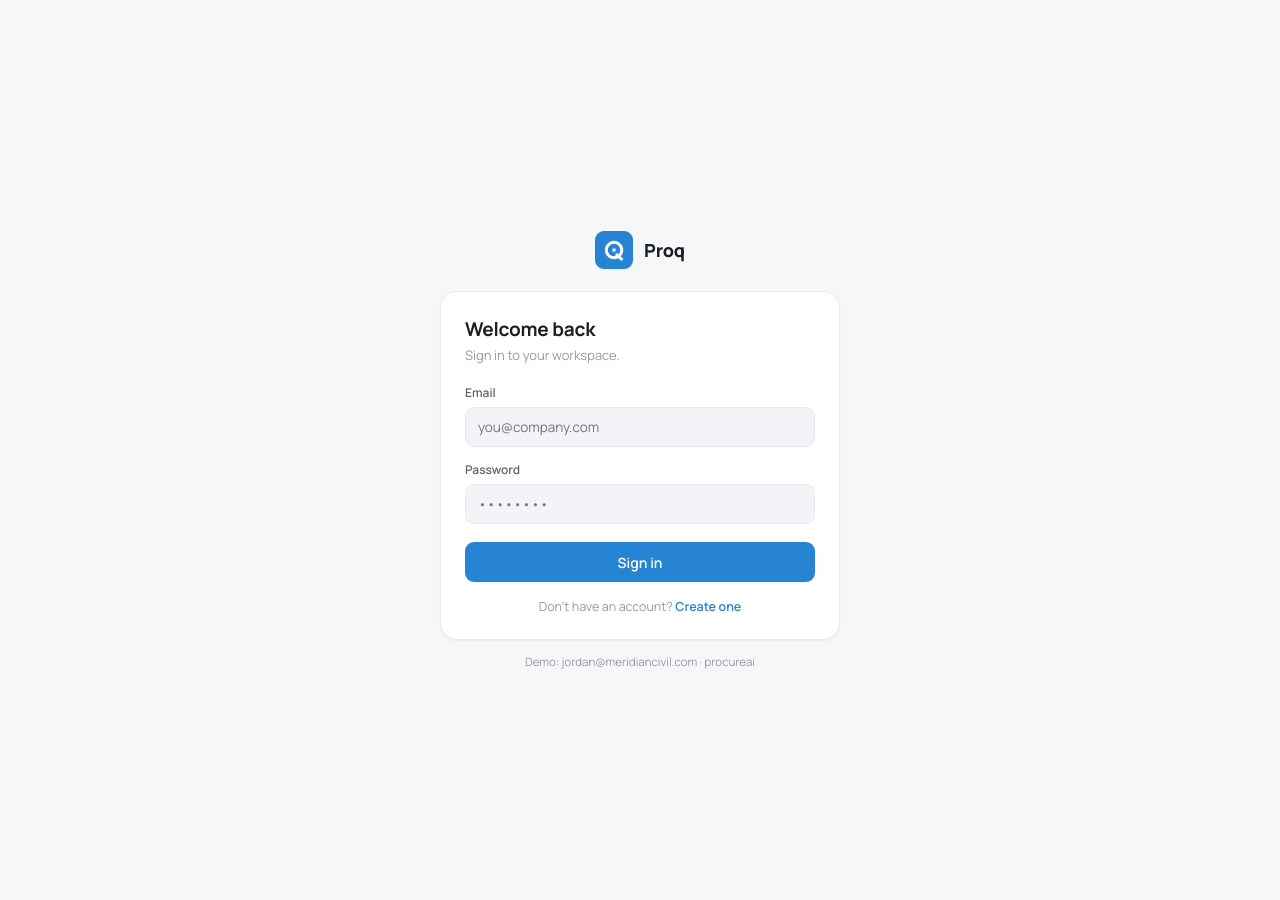
naming a custom BOM / trade never uses window.prompt › asks before replacing a plan whose BOM was already confirmed
Step 1. Type "pm@acmebuild.com" into the field with placeholder "you@company.com" → [640, 427], box [465,407,815,447]
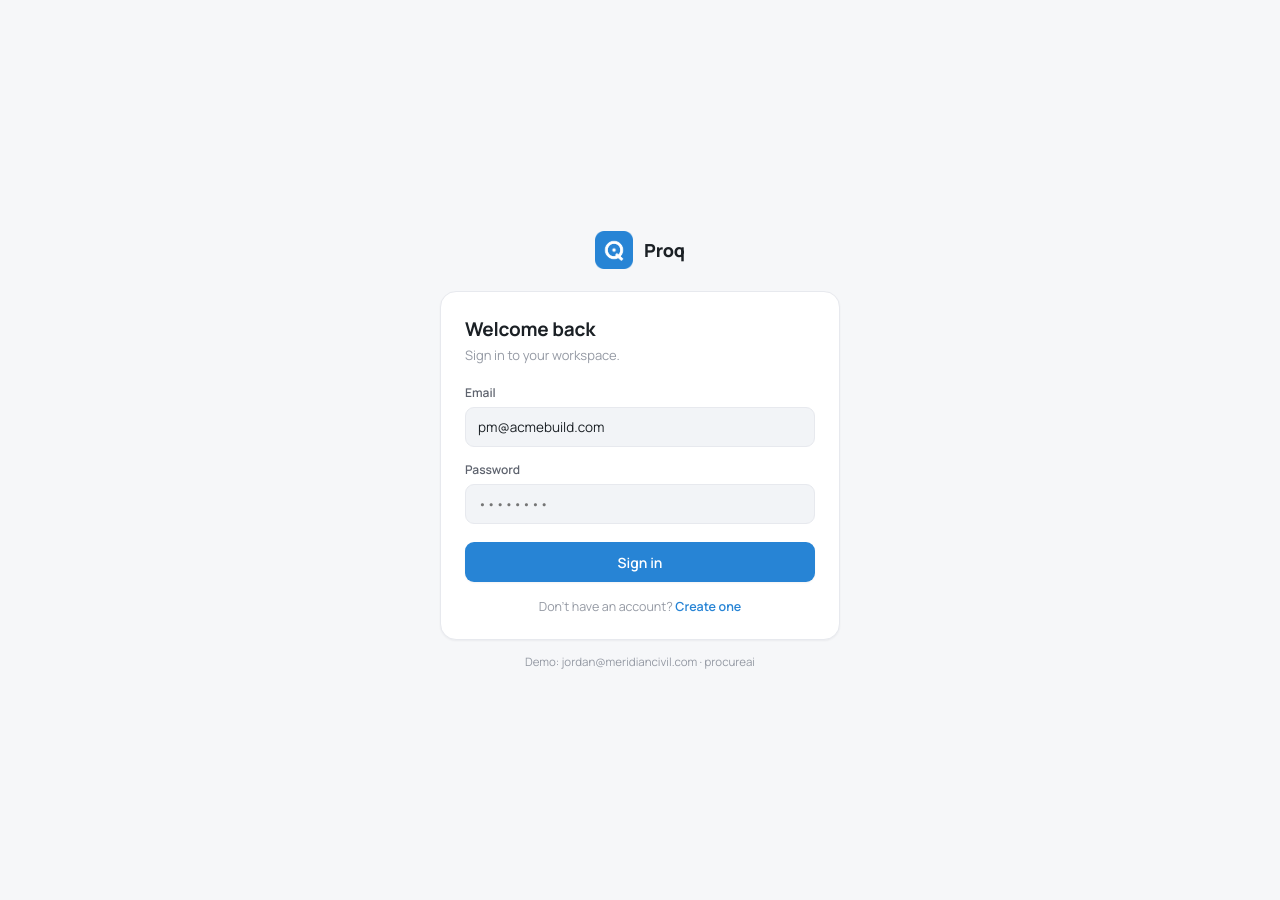
Step 2. Type "password123" into the password field with placeholder "••••••••" → [640, 504], box [465,484,815,524]
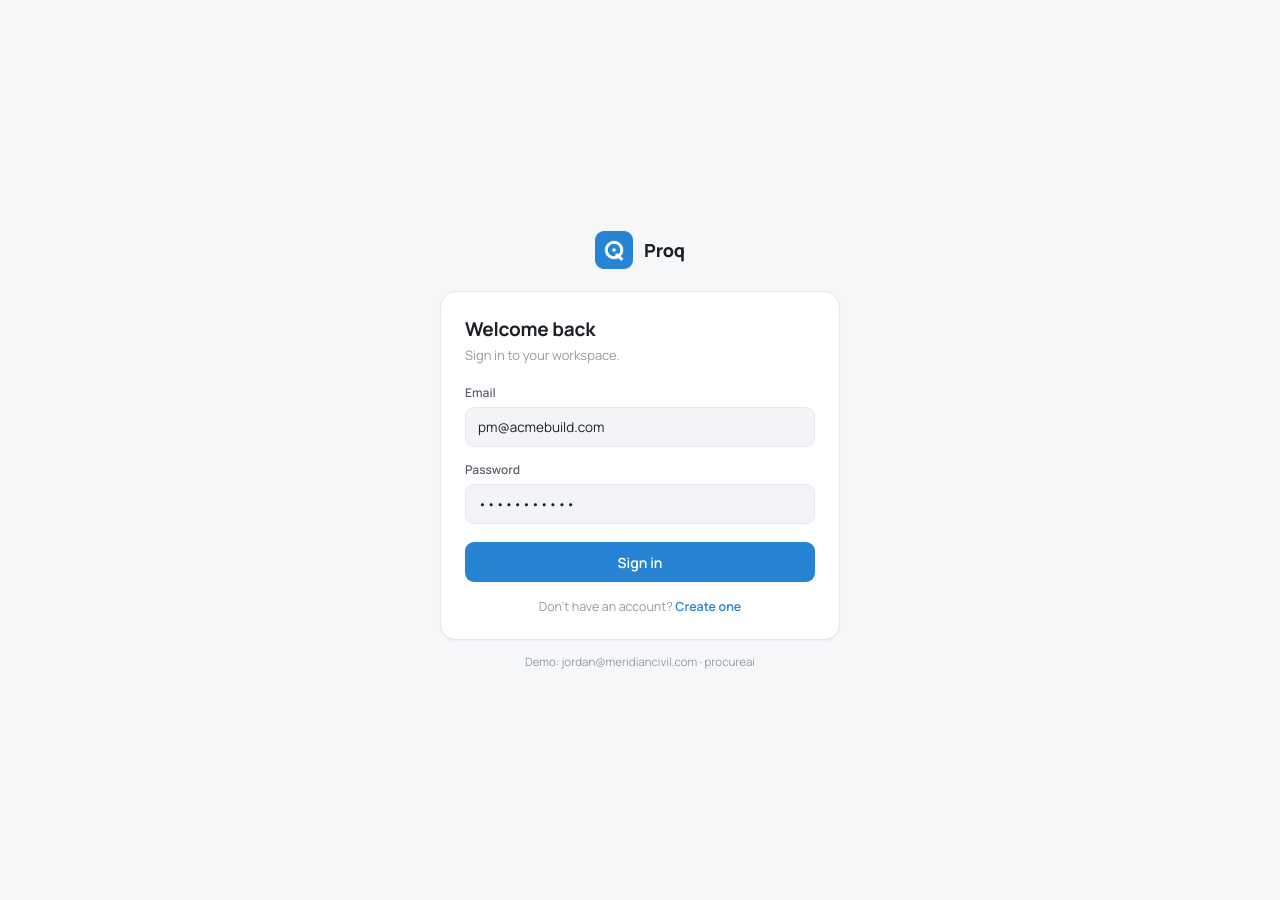
Step 3. Click the button "Sign in" → [640, 562], box [465,542,815,582]
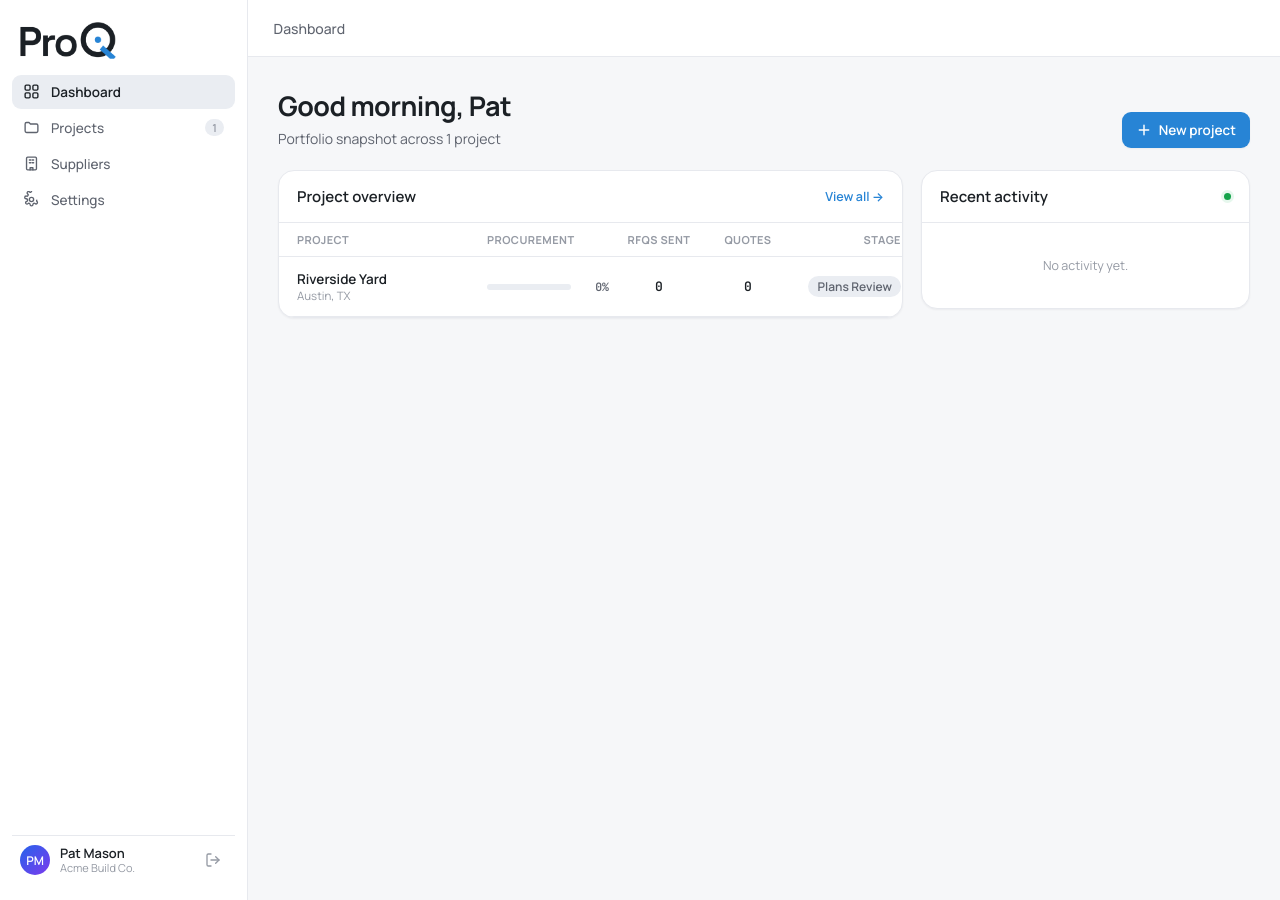
Step 4. Click the text "Riverside Yard" → [342, 279], box [297,270,387,288]
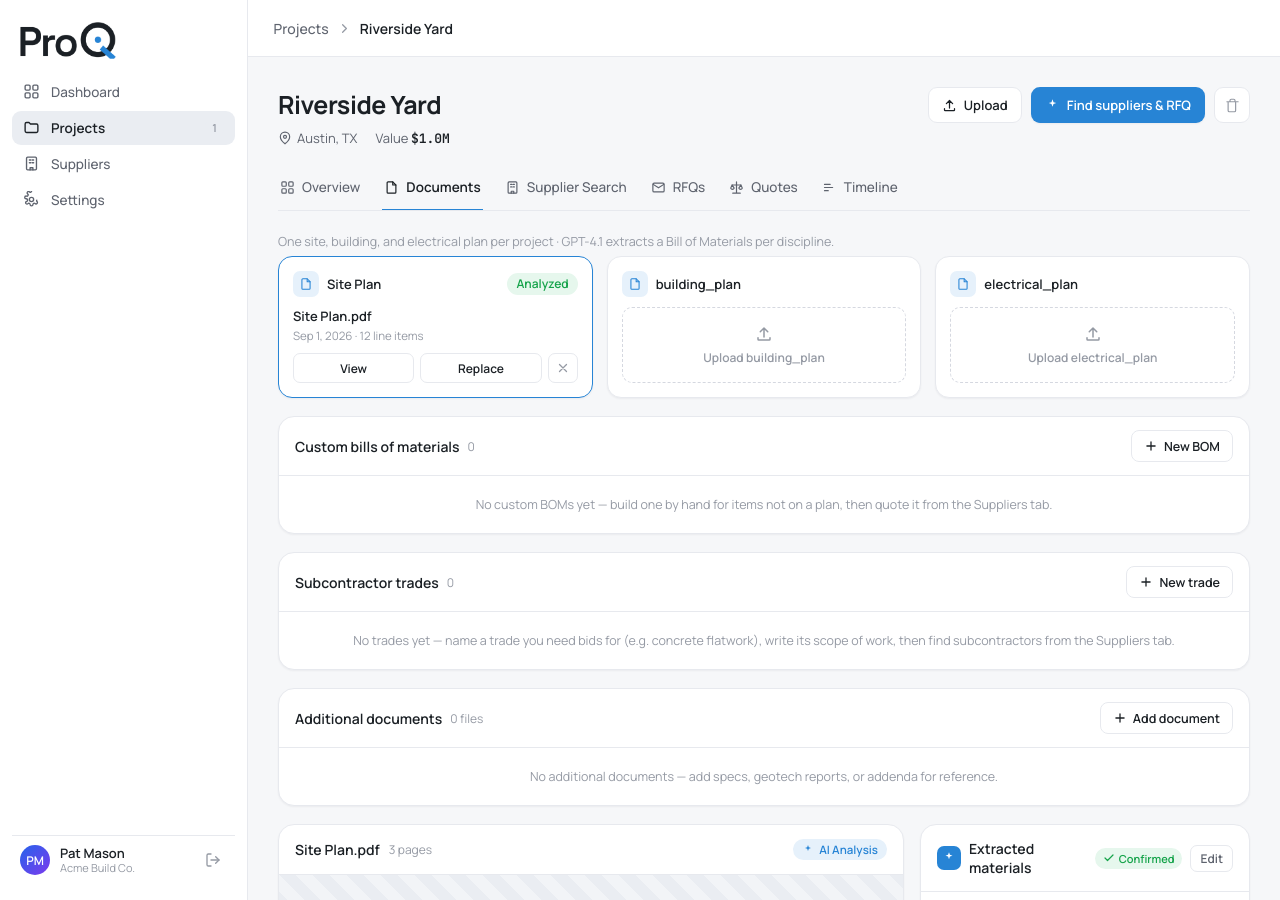
Step 5. Click the button "Replace" → [481, 368], box [420,353,542,383]
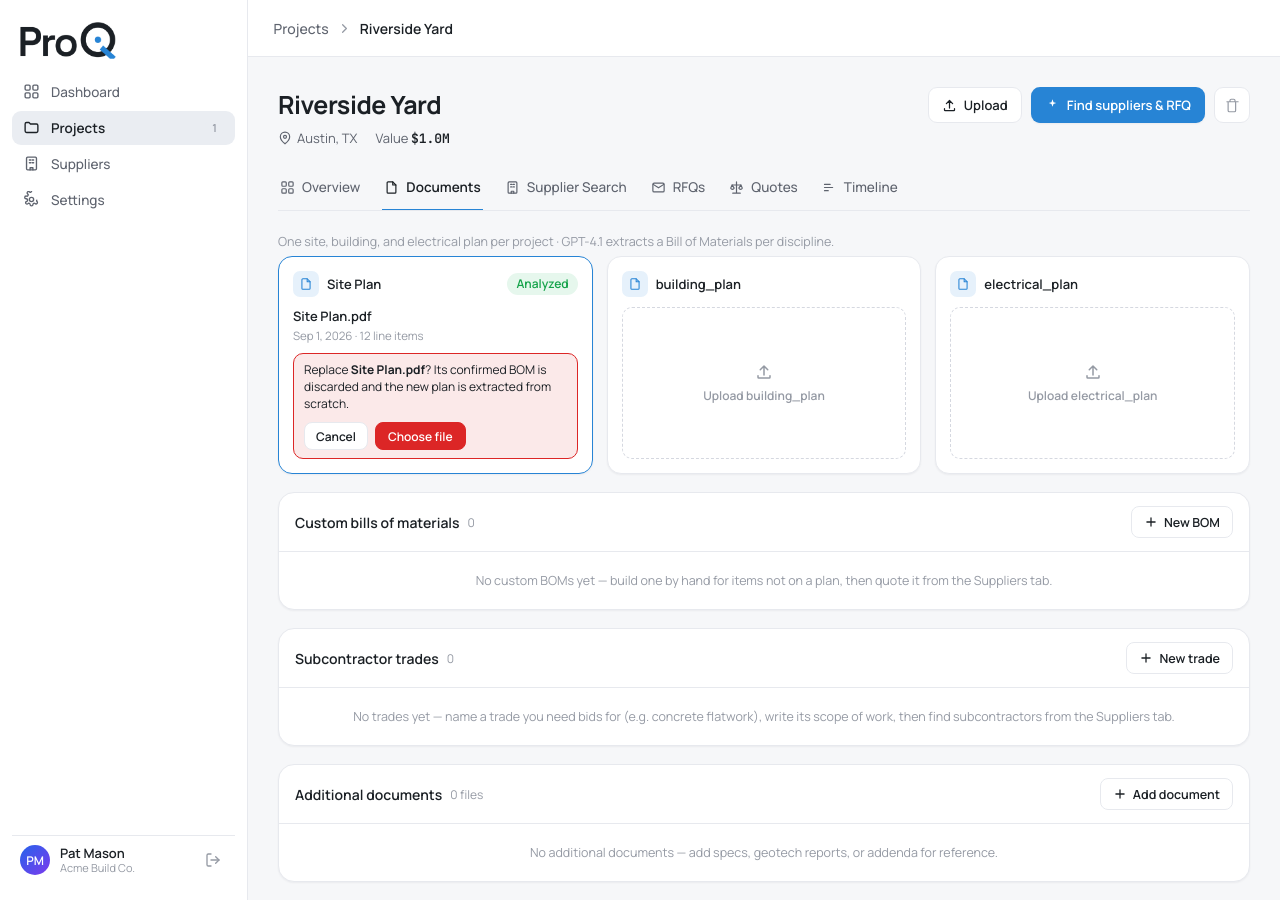
Check: the dialog shows "confirmed BOM is discarded", box [293,353,578,459]
Step 6. Click the button "Cancel" → [336, 436], box [304,422,368,450]
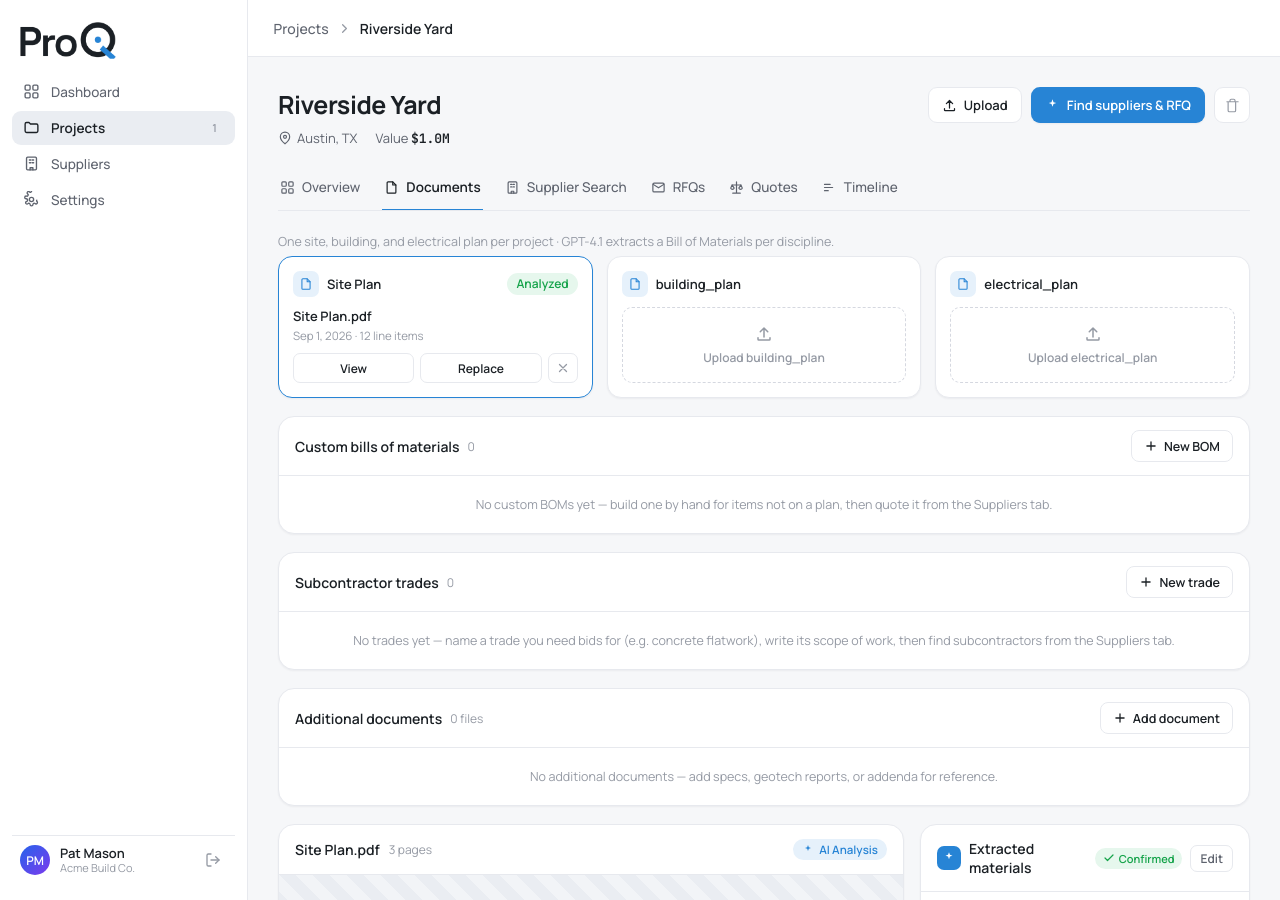
Check: the dialog is gone
